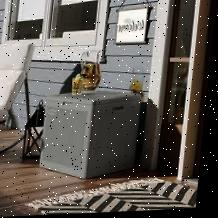cube: (39, 89, 144, 180)
